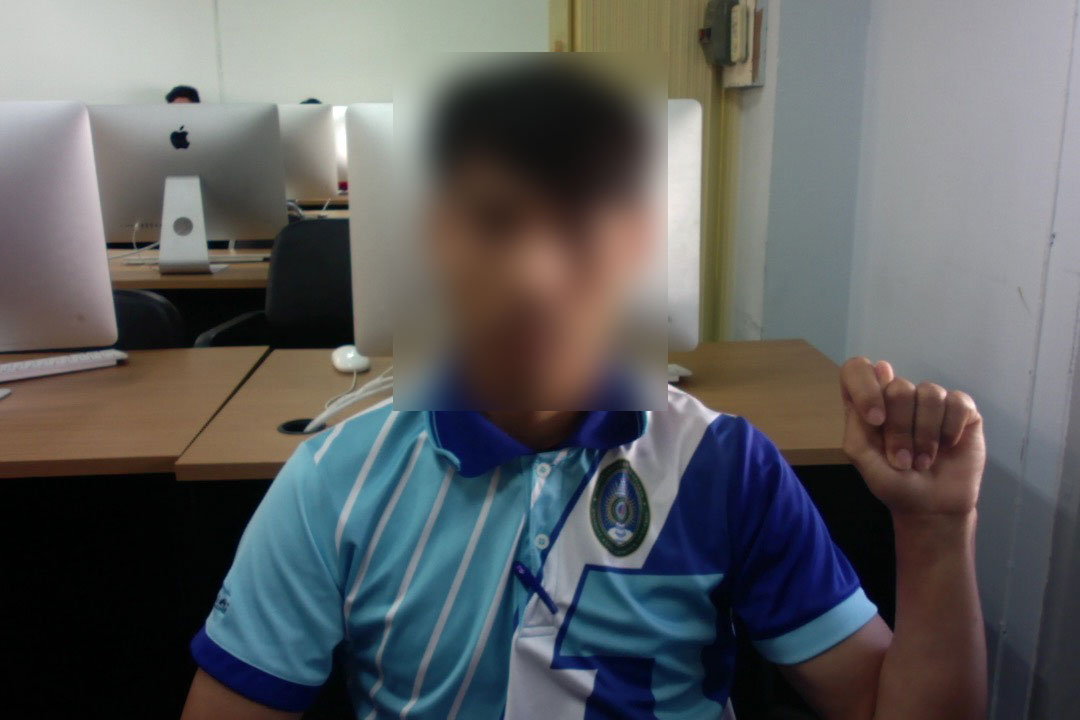tor: (828, 354, 1005, 529)
